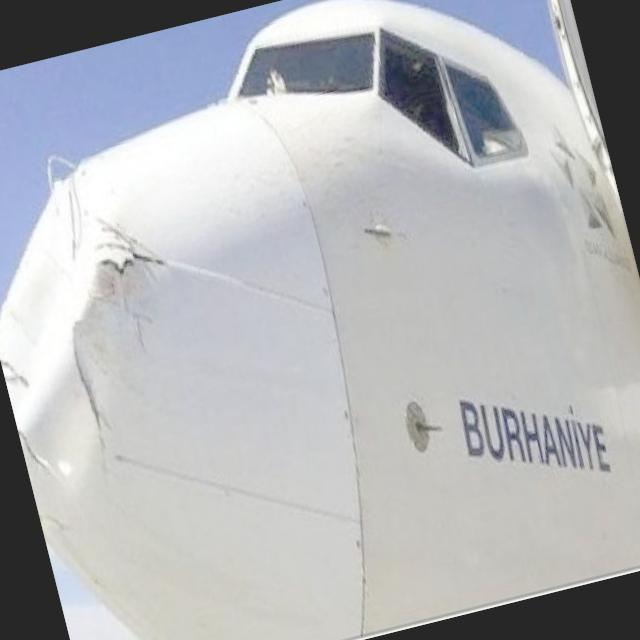crack: (72, 326, 105, 469), (100, 220, 169, 279)
dent: (0, 168, 122, 444)
